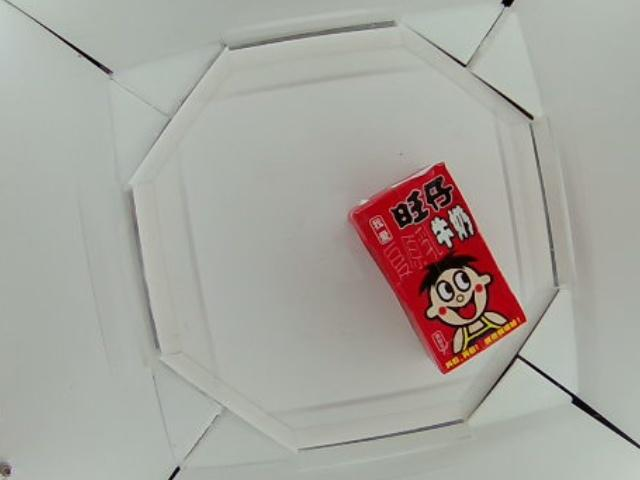Bottle: (350, 162, 530, 375)
